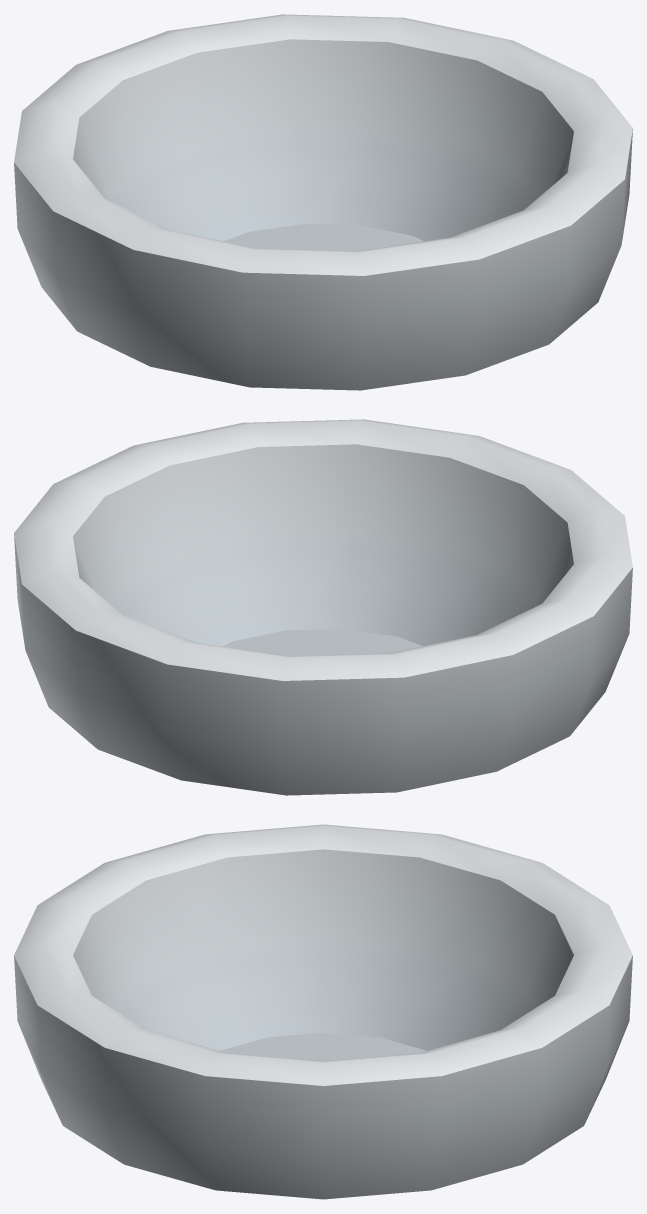
Rendered from bowl.glb.
3 renders of one model, top to bottom at view 1: azimuth 30°, elevation 25°; view 2: azimuth 150°, elevation 25°; view 3: azimuth 270°, elevation 25°, orthographic.
Visible parts, largest first — view 1: bowl; view 2: bowl; view 3: bowl.
Part boxes in pixels (x1,y1,x2,y2): bowl: [14, 14, 632, 390]; bowl: [14, 419, 632, 795]; bowl: [14, 824, 632, 1199].
Size of the model in its own units: 0.95 by 0.3 by 0.95.
1 material, 1 textured.
